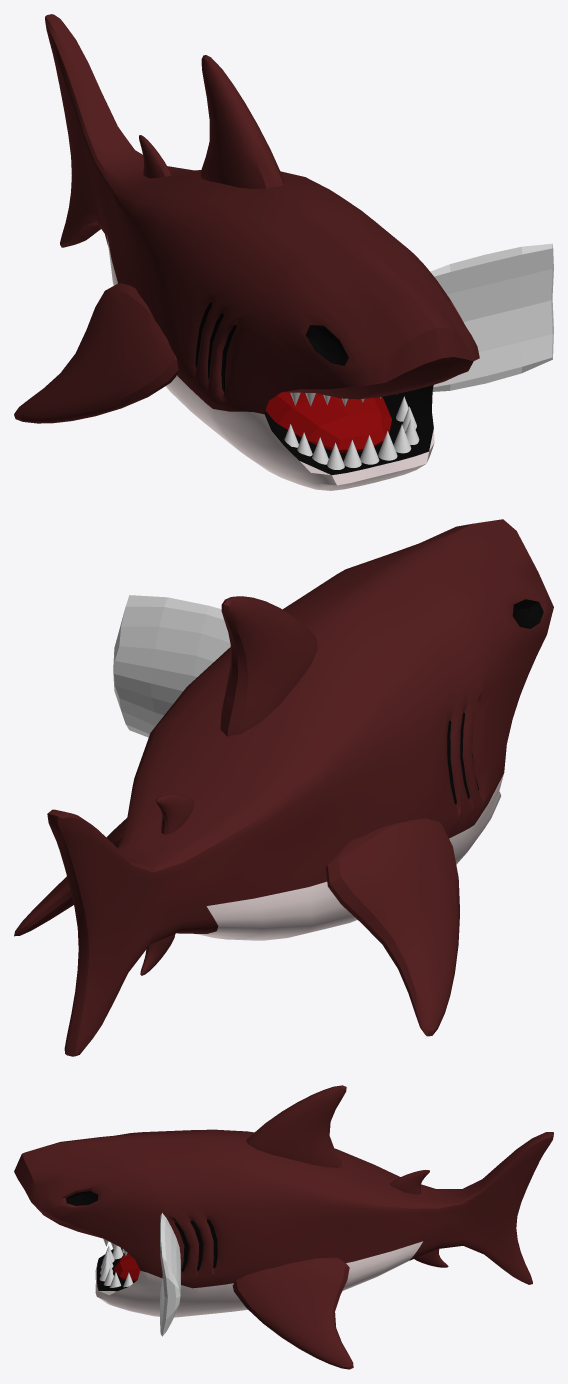
3 views of the same model, one above another, from view 1: azimuth 30°, elevation 25°; view 2: azimuth 150°, elevation 25°; view 3: azimuth 270°, elevation 25° (orthographic). The views are drawn at different scales.
Parts seen in each view (by area): view 1: 立方体, 立方体.007, 立方体.003, 立方体.001, 立方体.006, 立方体.004; view 2: 立方体, 立方体.003, 立方体.007, 立方体.001, 立方体.002, 立方体.004; view 3: 立方体, 立方体.002, 立方体.001, 立方体.007, 立方体.004, 立方体.006.
Boxes of the visible parts, x1,y1,x2,y2 form: 立方体: [45, 14, 479, 490]; 立方体.007: [430, 243, 553, 391]; 立方体.003: [14, 283, 178, 423]; 立方体.001: [200, 55, 284, 188]; 立方体.006: [266, 392, 391, 452]; 立方体.004: [139, 135, 171, 178]; 立方体: [47, 519, 553, 1056]; 立方体.003: [326, 818, 459, 1036]; 立方体.007: [113, 595, 230, 737]; 立方体.001: [220, 596, 317, 736]; 立方体.002: [14, 818, 127, 936]; 立方体.004: [156, 794, 193, 834]; 立方体: [14, 1129, 553, 1317]; 立方体.002: [232, 1257, 353, 1369]; 立方体.001: [246, 1085, 346, 1167]; 立方体.007: [160, 1213, 180, 1336]; 立方体.004: [390, 1170, 429, 1194]; 立方体.006: [113, 1253, 140, 1280].
Bounding box in the file's own units: 594 × 465 × 1003.
